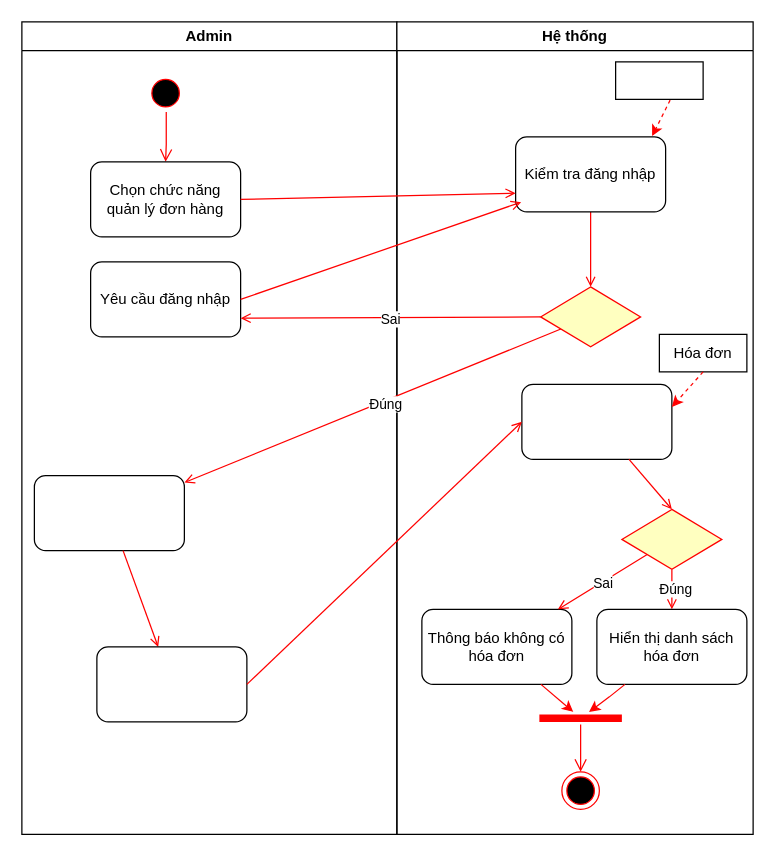
Some shapes in this 775 by 856 pixel diagram are drawn without their labels. The centre of each missing label's shape, as x and y in pixels:
"Chọn chức năng tra cứu hóa đơn" belongs at point (108, 512).
"Kiểm tra thông tin đơn hàng" belongs at point (596, 421).
"Nhập thông tin đơn hàng" belongs at point (171, 684).
"Tài khoản" belongs at point (658, 80).
